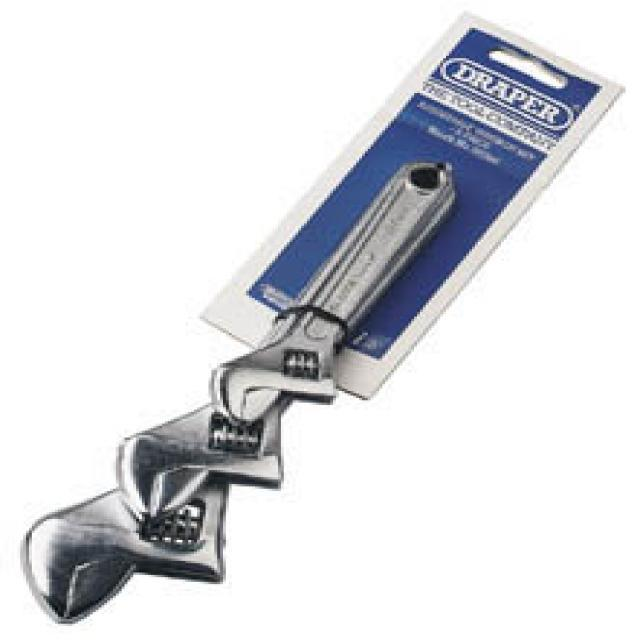wrench: (218, 158, 454, 420), (11, 504, 223, 626), (125, 396, 288, 526)
